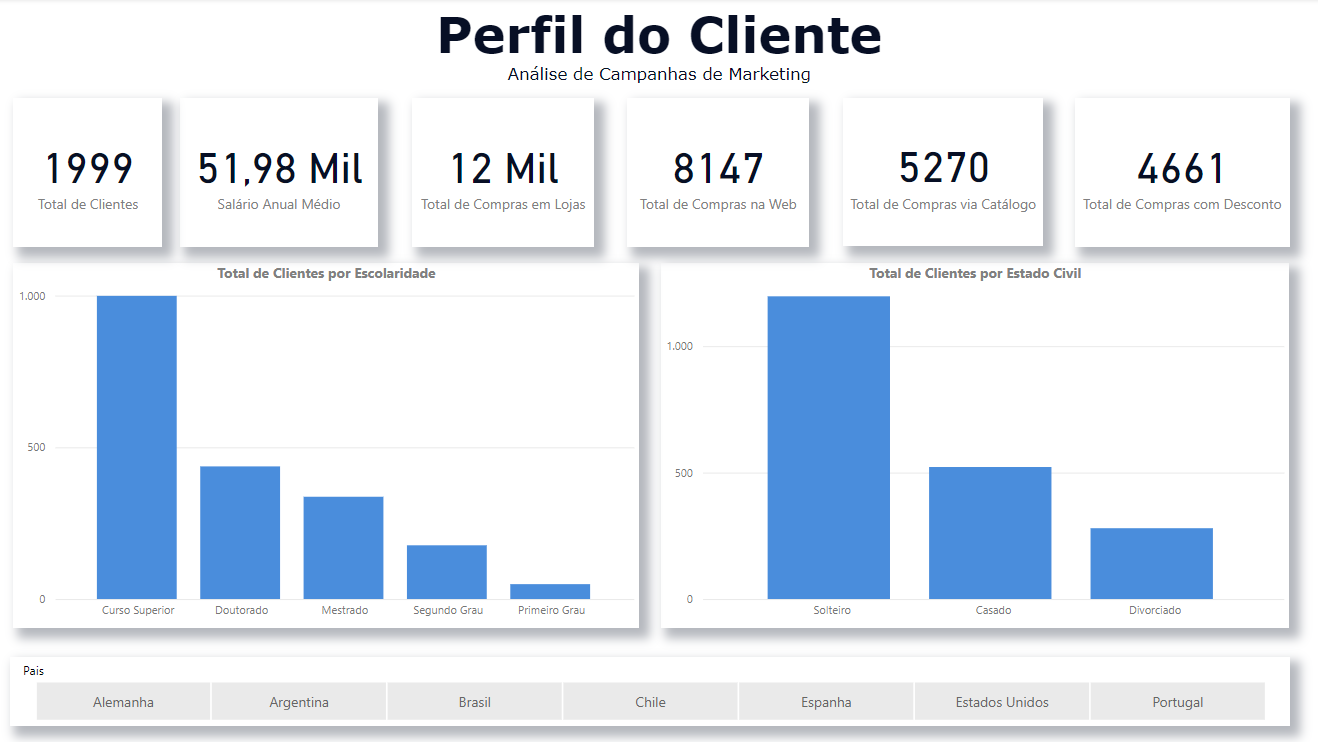

What the dashboard file says about the page in this screenshot:
{"tool":"powerbi","page":{"name":"Visão Cliente","canvas":[1280,720],"ordinal":0},"visuals":[{"type":"card","fields":{"Values":["CountNonNull(DadosMarketing.ID)"]},"box":[16,96,144,144],"z":0},{"type":"card","fields":{"Values":["Avg(DadosMarketing.Salario Anual)"]},"box":[176,96,192,144],"z":1000},{"type":"card","fields":{"Values":["Sum(DadosMarketing.Numero de Compras na Loja)"]},"box":[400,96,176,144],"z":2000},{"type":"card","fields":{"Values":["Sum(DadosMarketing.Numero de Compras na Web)"]},"box":[608,96,176,144],"z":3000},{"type":"card","fields":{"Values":["Sum(DadosMarketing.Numero de Compras com Desconto)"]},"box":[1040,96,208,144],"z":4000},{"type":"card","fields":{"Values":["Sum(DadosMarketing.Numero de Compras via Catalogo)"]},"box":[816.5,96.5,193,143.5],"z":5000},{"type":"textbox","box":[11.5,0,1253.7,90.6],"z":6000},{"type":"columnChart","title":"Total de Clientes por Escolaridade","fields":{"Category":["DadosMarketing.Escolaridade"],"Y":["CountNonNull(DadosMarketing.ID)"]},"box":[15.7,255.7,604.2,352.2],"z":7000},{"type":"columnChart","title":"Total de Clientes por Estado Civil","fields":{"Category":["DadosMarketing.Estado Civil"],"Y":["CountNonNull(DadosMarketing.ID)"]},"box":[640.4,255.7,606.6,352.2],"z":8000},{"type":"slicer","fields":{"Values":["DadosMarketing.Pais"]},"box":[12.1,635.6,1235,67.5],"z":9000}]}

Visuals, with their boxes in screenshot pixels (x1, y1, x2, y2), scaled from the page's 1280x720 canvas onto the 1318x742 screenshot:
card - CountNonNull(DadosMarketing.ID): (16,99,165,247)
card - Avg(DadosMarketing.Salario Anual): (181,99,379,247)
card - Sum(DadosMarketing.Numero de Compras na Loja): (412,99,593,247)
card - Sum(DadosMarketing.Numero de Compras na Web): (626,99,807,247)
card - Sum(DadosMarketing.Numero de Compras com Desconto): (1071,99,1285,247)
card - Sum(DadosMarketing.Numero de Compras via Catalogo): (841,99,1039,247)
textbox: (12,0,1303,93)
"Total de Clientes por Escolaridade" columnChart: (16,264,638,626)
"Total de Clientes por Estado Civil" columnChart: (659,264,1284,626)
slicer - DadosMarketing.Pais: (12,655,1284,725)
